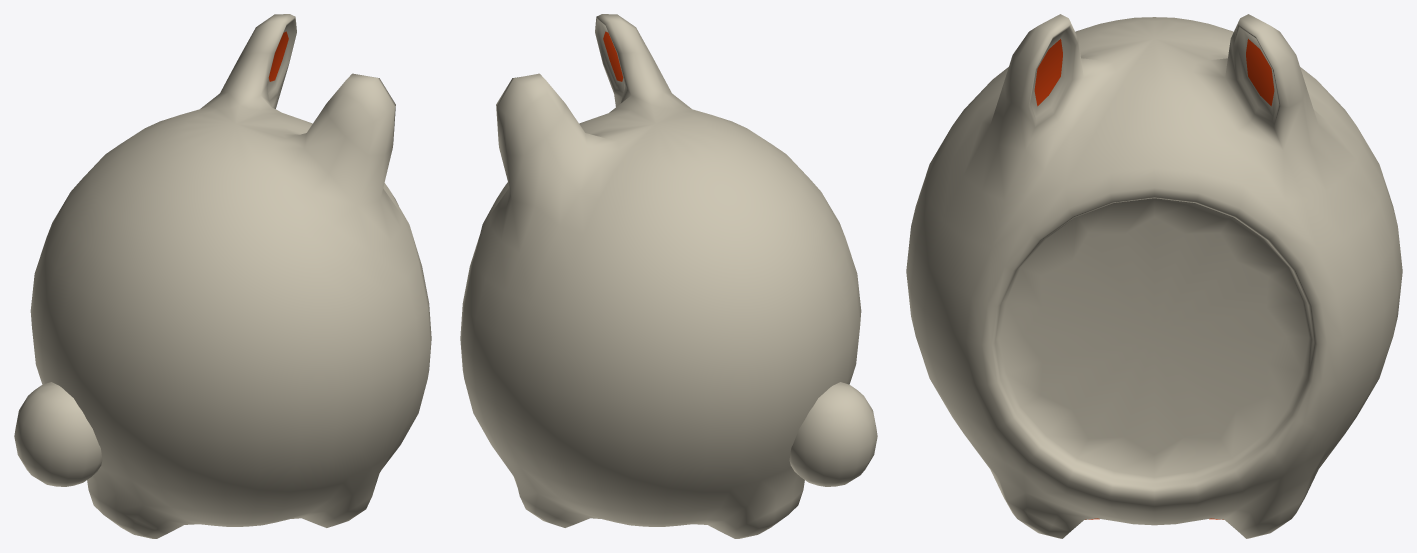
Rendered from Clock.fbx.
3 views of the same model, side by side, from view 1: azimuth 30°, elevation 25°; view 2: azimuth 150°, elevation 25°; view 3: azimuth 270°, elevation 25° (orthographic). The views are drawn at different scales.
Parts seen in each view (by area): view 1: Sphere; view 2: Sphere; view 3: Sphere.
Part boxes in pixels (x1,y1,x2,y2): Sphere: [14, 14, 431, 538]; Sphere: [460, 14, 877, 538]; Sphere: [906, 14, 1402, 538].
Size of the model in its own units: 182 by 226 by 190.
